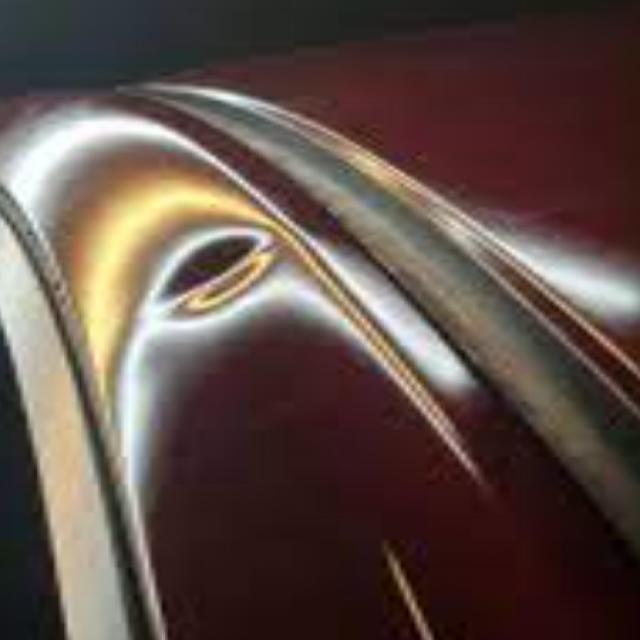dents: (140, 209, 272, 376)
